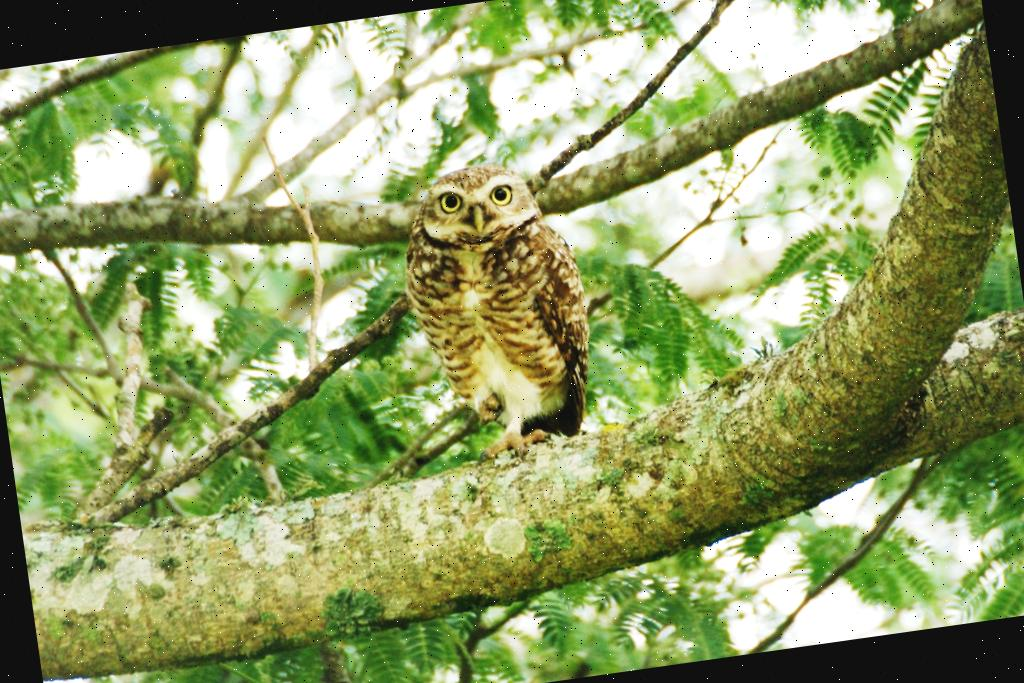Owl: (394, 153, 608, 469)
